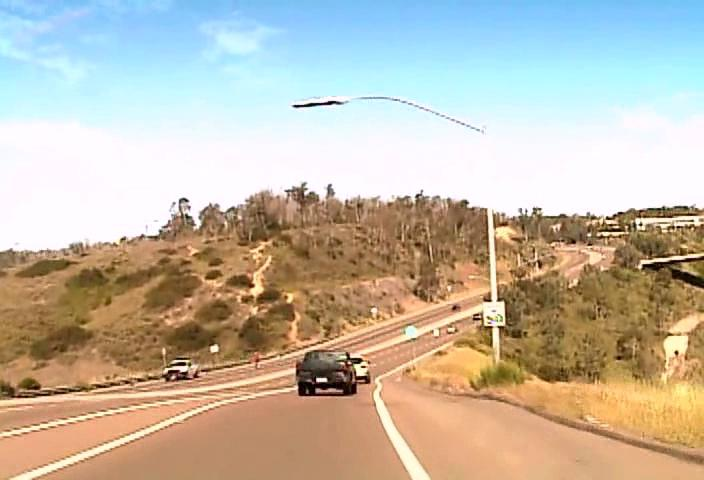speedLimit50: (482, 300, 506, 326)
